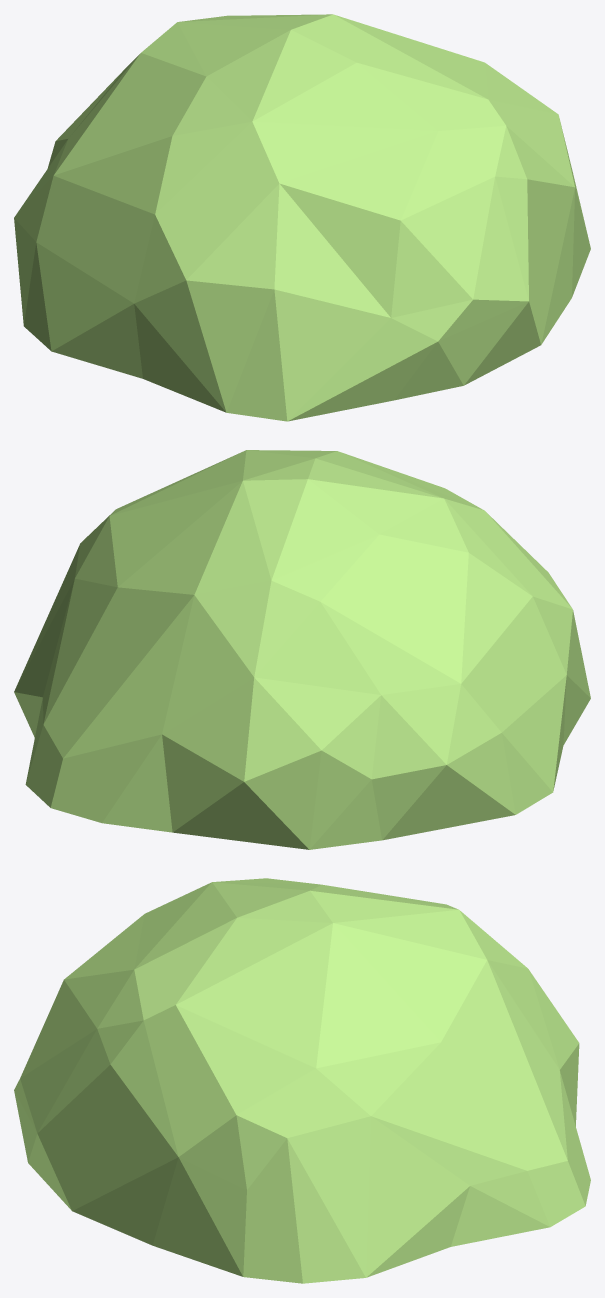
File: Bush_b_l_01.fbx
The picture shows the model from 3 angles, top to bottom: view 1: azimuth 30°, elevation 25°; view 2: azimuth 150°, elevation 25°; view 3: azimuth 270°, elevation 25°; orthographic projection.
Visible parts, largest first — view 1: Bush_b_l_01; view 2: Bush_b_l_01; view 3: Bush_b_l_01.
Part boxes in pixels (<box>): Bush_b_l_01: <box>14,14,590,421</box>; Bush_b_l_01: <box>14,450,590,849</box>; Bush_b_l_01: <box>14,878,590,1283</box>.
Bounding box in the file's own units: 317 × 150 × 305.
